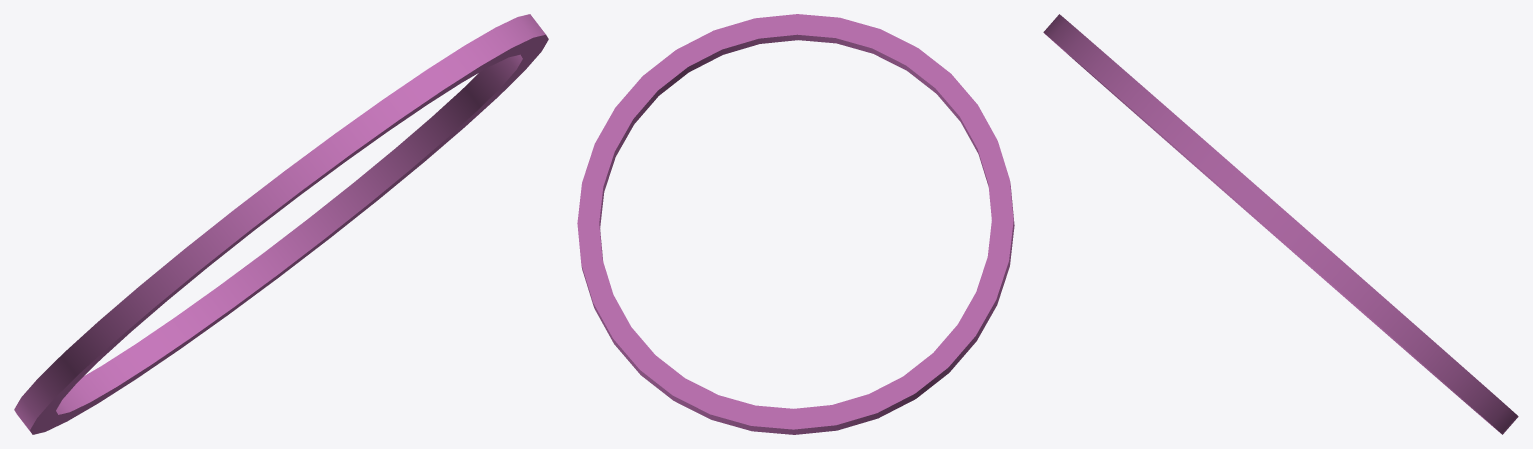
The model's file is Ring_5.glb.
3 renders of one model, left to right at view 1: azimuth 30°, elevation 25°; view 2: azimuth 150°, elevation 25°; view 3: azimuth 270°, elevation 25°, orthographic. The views are drawn at different scales.
Parts seen in each view (by area): view 1: Ring_5; view 2: Ring_5; view 3: Ring_5.
Part boxes in pixels (x1=…): Ring_5: x1=14, y1=14, x2=548, y2=434; Ring_5: x1=577, y1=14, x2=1014, y2=434; Ring_5: x1=1043, y1=14, x2=1518, y2=434.
Bounding box in the file's own units: 4.8 × 3.8 × 3.88.
